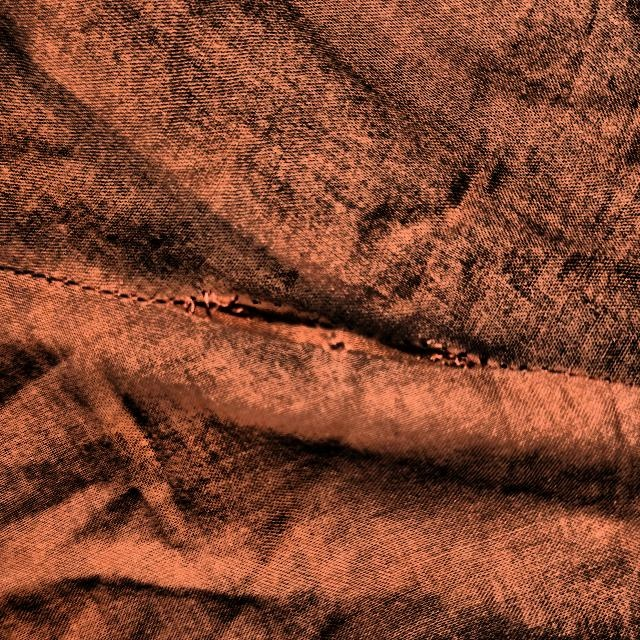seam: (102, 205, 530, 441)
